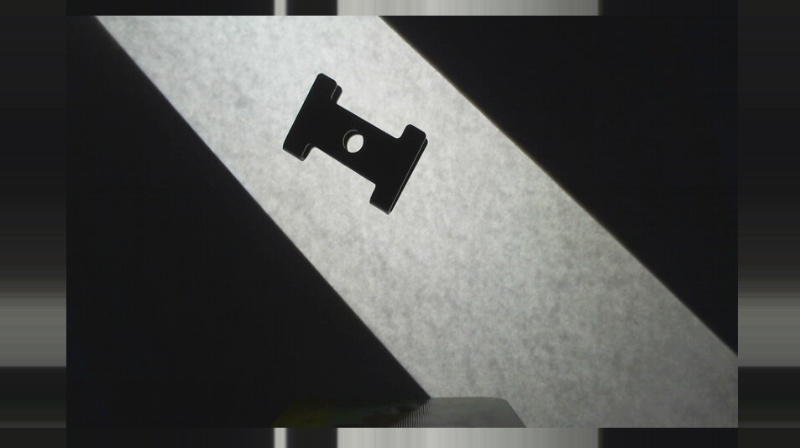O002: (279, 70, 430, 217)
